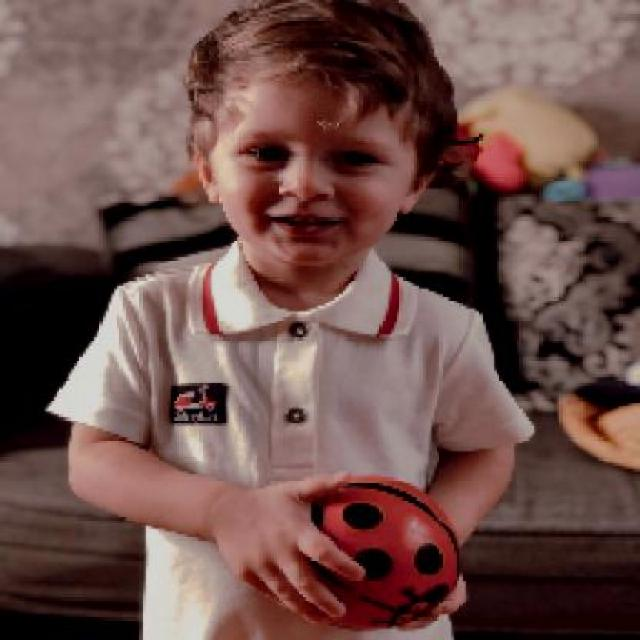child: (40, 0, 537, 637)
